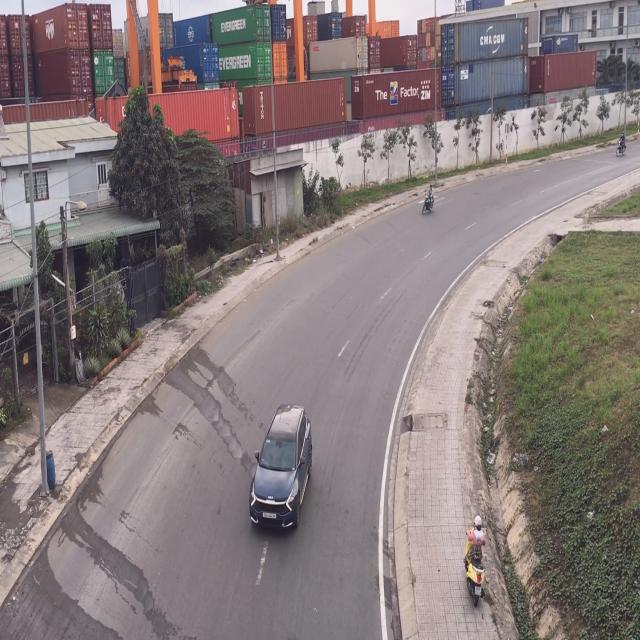car: (250, 406, 314, 534)
motorbike: (462, 516, 488, 610), (420, 183, 435, 216), (616, 132, 626, 156)
